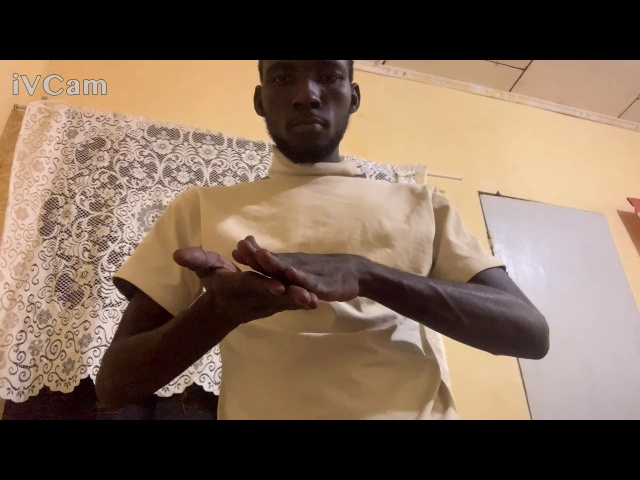pardon: (167, 228, 379, 332)
